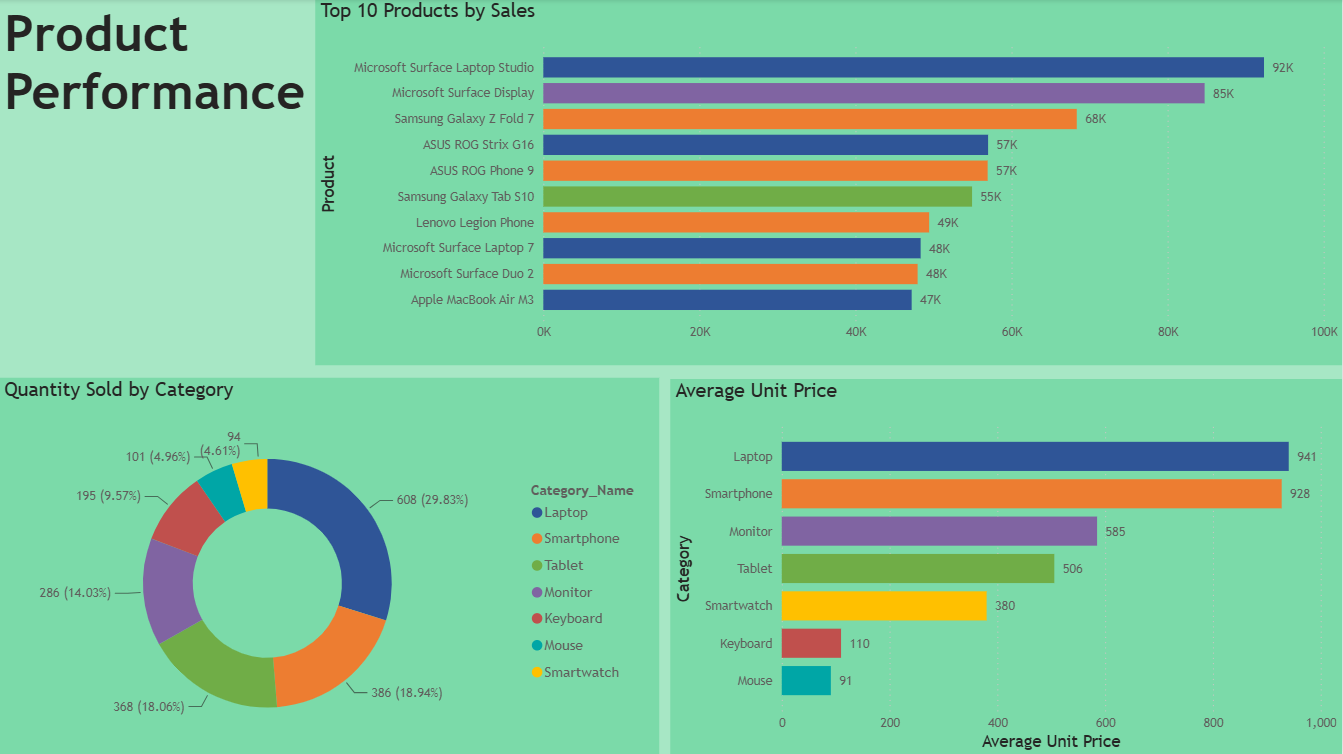

This screenshot's page, from the dashboard's own definition file:
{"tool":"powerbi","page":{"name":"Product Performance","canvas":[1280,720],"ordinal":1},"visuals":[{"type":"donutChart","title":"Quantity Sold by Category","fields":{"Category":["Categories.Category_Name"],"Y":["_DAX Measures.Total Quantity Sold"]},"box":[0,360.2,628.5,358.7],"z":0},{"type":"clusteredBarChart","title":"Average Unit Price ","fields":{"Category":["Categories.Category_Name"],"Y":["Order_Items.Average Unit Price"]},"box":[639.7,362,639.7,358.5],"z":1000},{"type":"barChart","title":"Top 10 Products by Sales","fields":{"Category":["Products.Product_Name "],"Y":["_DAX Measures.Total Sales"]},"box":[301.2,0,978.6,348.8],"z":2000},{"type":"textbox","box":[0,0,301.2,175],"z":3000}]}

Visuals, with their boxes in screenshot pixels (x1, y1, x2, y2), scaled from the page's 1280x720 canvas onto the 1343x754 screenshot:
"Quantity Sold by Category" donutChart: 0 377 659 753
"Average Unit Price " clusteredBarChart: 671 379 1342 753
"Top 10 Products by Sales" barChart: 316 0 1342 365
textbox: 0 0 316 183
